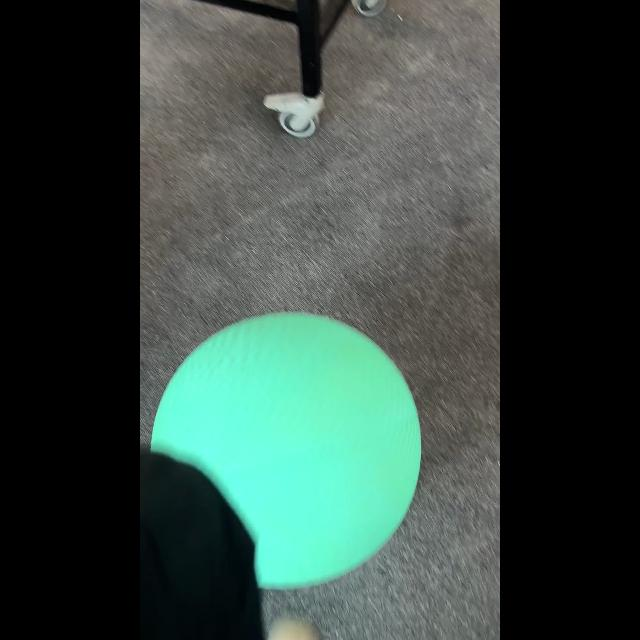ALGAE: (150, 310, 422, 590)
